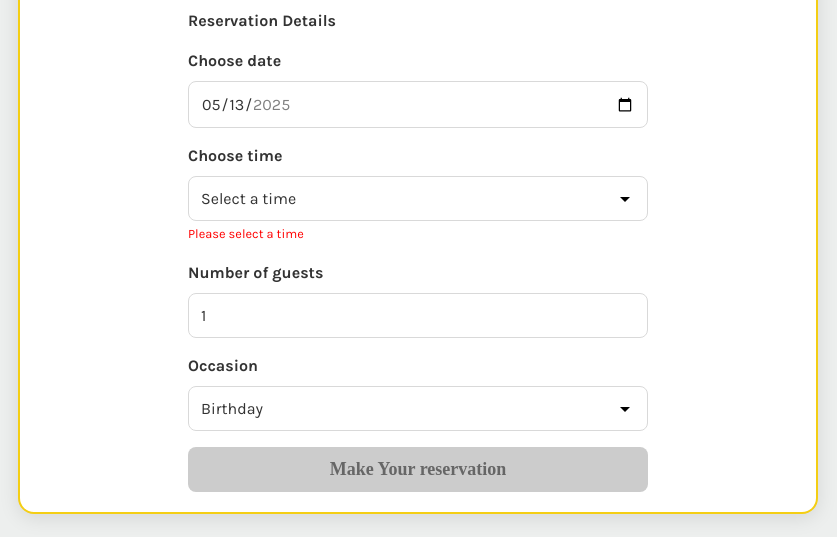
Test: BookingForm › Form Validation › should not show error when valid time is selected
Select "17:00" in the dropdown labelled "Choose time" at (418, 198), box x1=188 y1=176 x2=648 y2=221
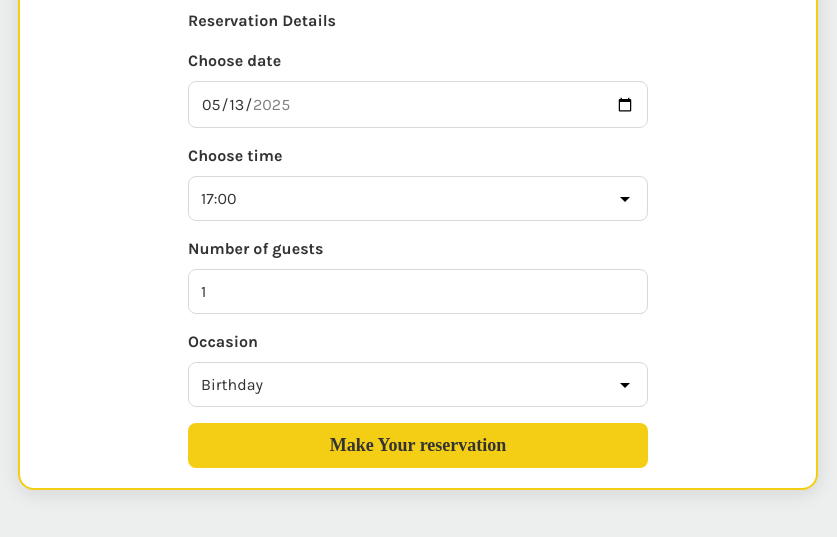
Expected: the text "Please select a time" is gone
